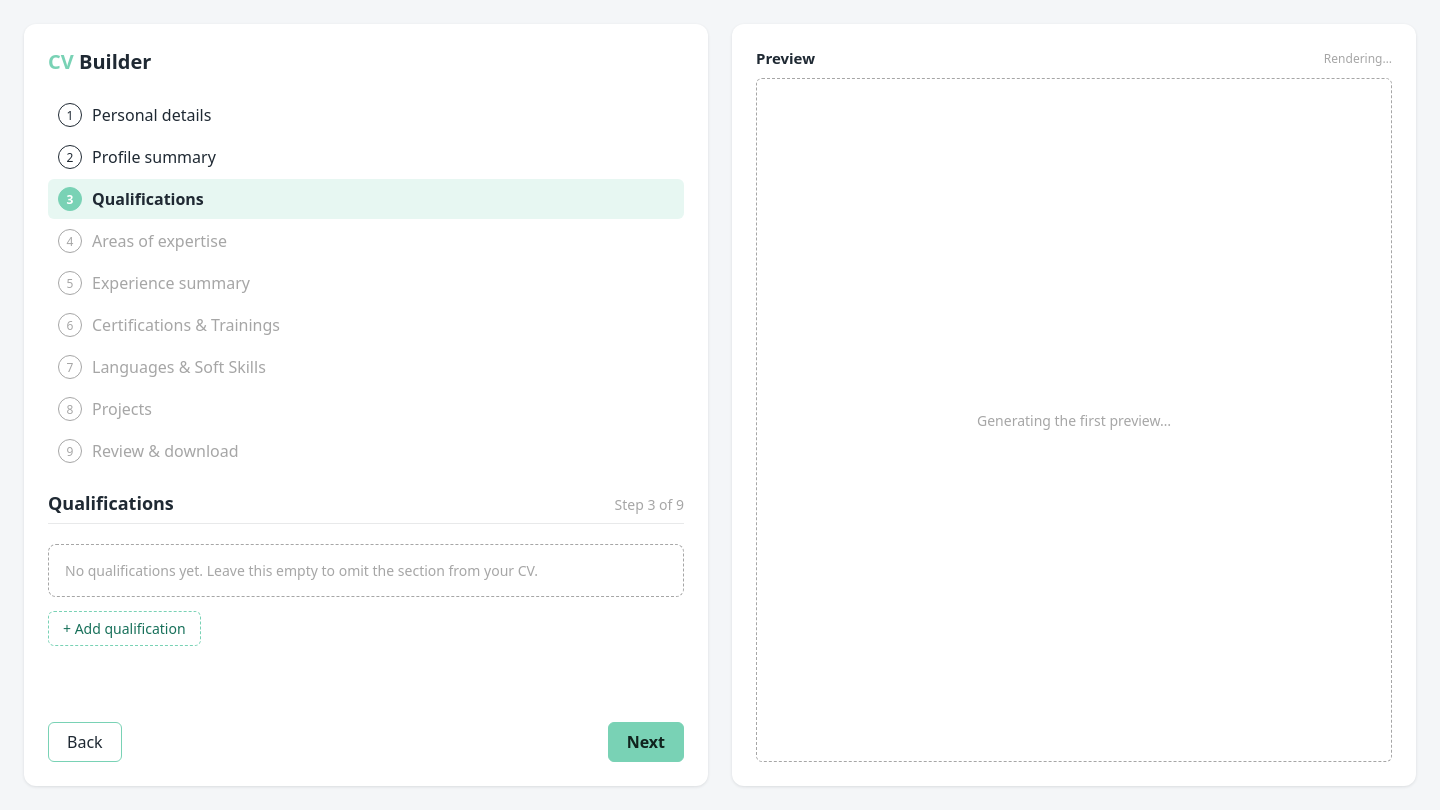
Test: repeatable sections › add then remove an item
This screenshot has width=1440, height=810.
Click the button "+ Add qualification" at (124, 628), box top-left (48, 611), bottom-right (201, 646)
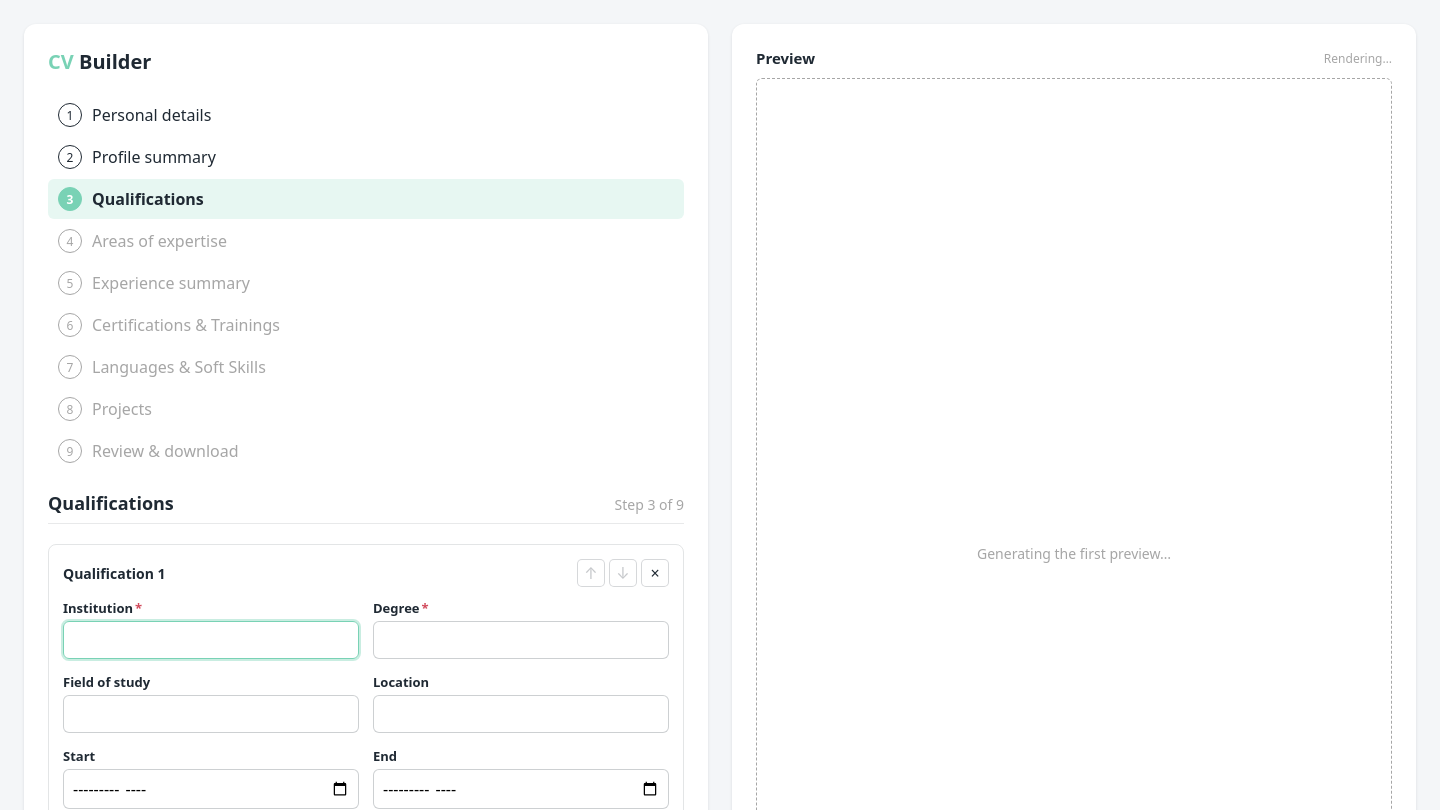
Expected: the field labelled "Institution*" is shown, top-left (63, 621), bottom-right (359, 659)
Click the button named "Remove qualification 1" at (655, 573), box top-left (641, 559), bottom-right (669, 587)
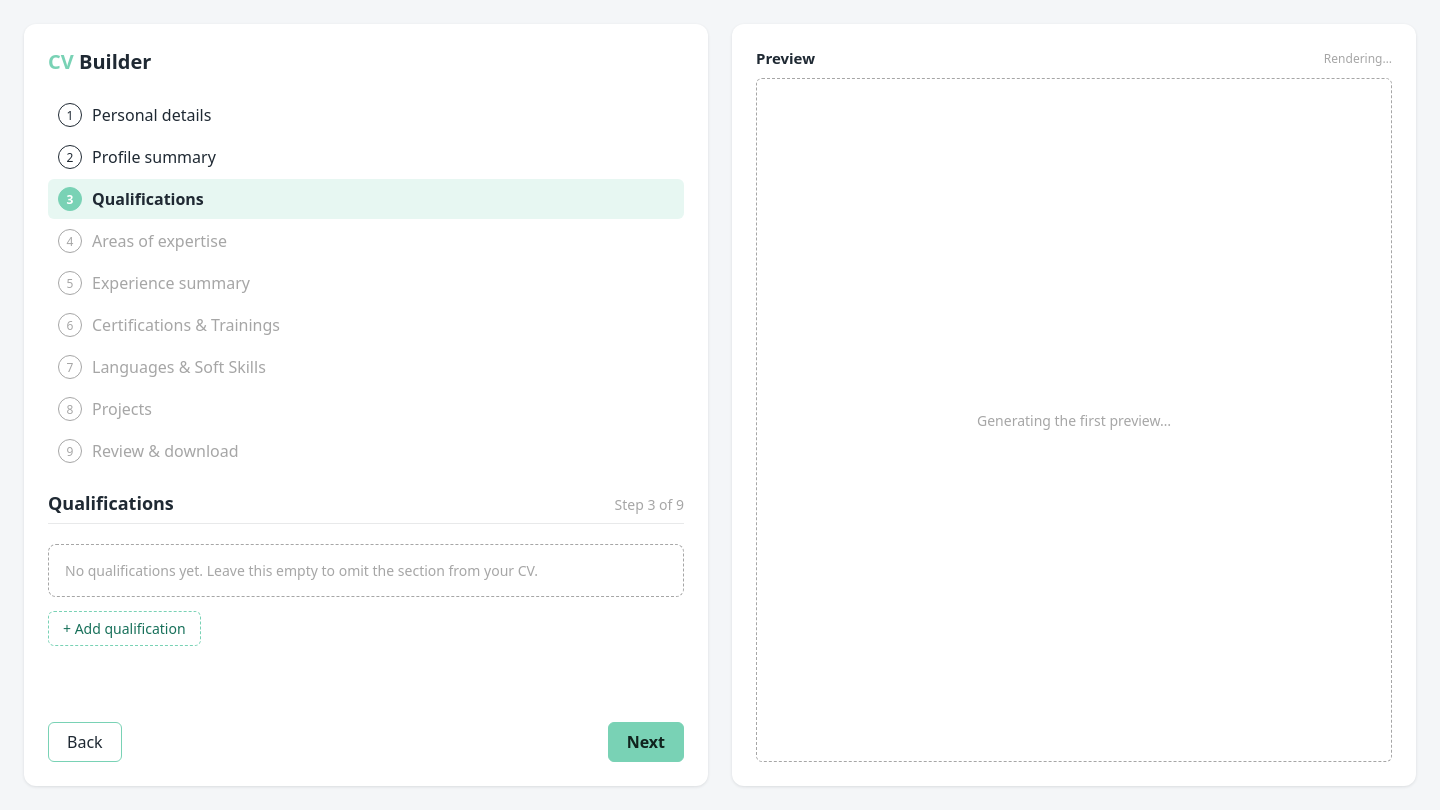
Expected: the label labelled "Institution" is gone
Expected: the text "No qualifications yet" is shown, top-left (65, 561), bottom-right (538, 580)
